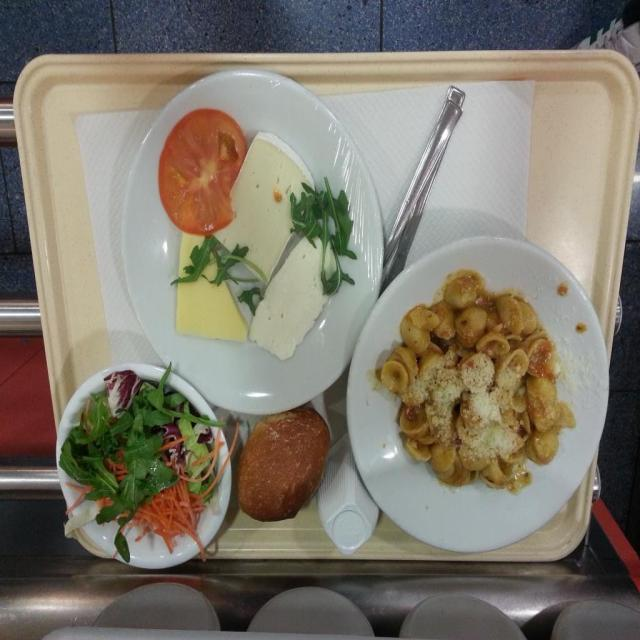plate: (119, 58, 380, 412), (351, 233, 608, 554), (51, 367, 230, 583), (238, 408, 333, 528)
